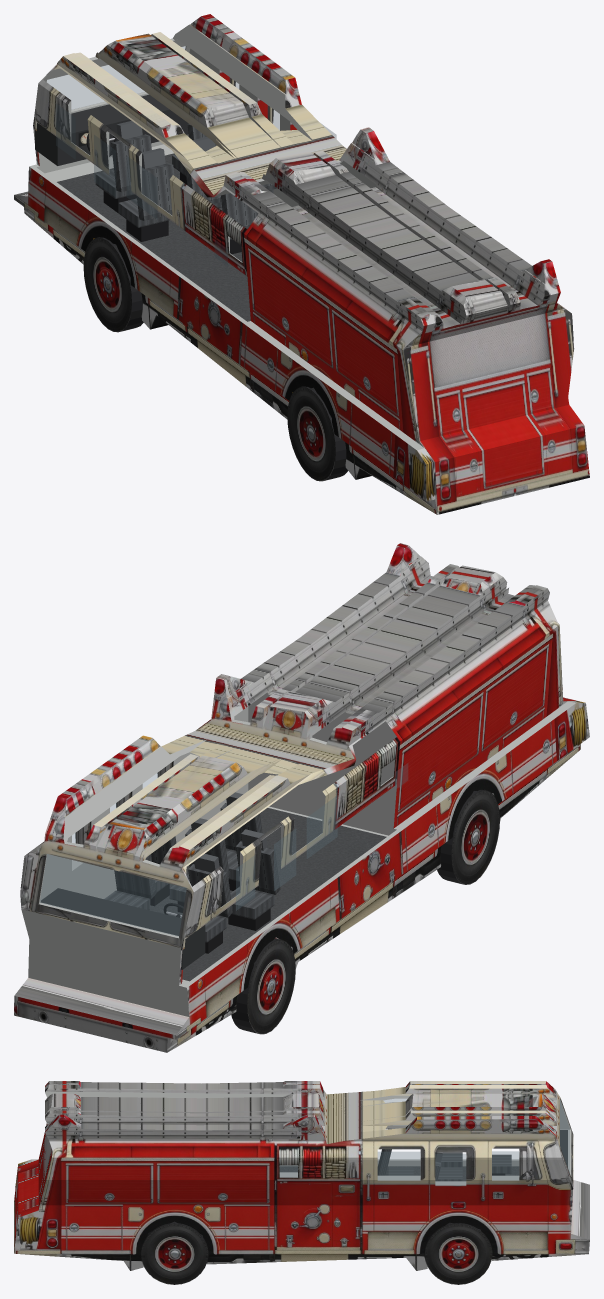
The model's file is fire_engine.glb.
3 views of the same model, one above another, from view 1: azimuth 30°, elevation 25°; view 2: azimuth 150°, elevation 25°; view 3: azimuth 270°, elevation 25° (orthographic). The views are drawn at different scales.
Visible parts, largest first — view 1: fire_engine, fire_engine_cabin, wheel_BL, wheel_FL; view 2: fire_engine, fire_engine_cabin, wheel_FL, wheel_BL; view 3: fire_engine, fire_engine_cabin, wheel_FR, wheel_BR.
Part boxes in pixels (x1,y1,x2,y2): fire_engine: (14,14,589,514); fire_engine_cabin: (35,46,336,321); wheel_BL: (287,386,347,481); wheel_FL: (83,237,143,332); fire_engine: (14,543,589,1052); fire_engine_cabin: (40,763,407,981); wheel_FL: (231,938,295,1034); wheel_BL: (437,790,499,884); fire_engine: (14,1081,589,1270); fire_engine_cabin: (279,1099,569,1185); wheel_FR: (425,1222,491,1284); wheel_BR: (141,1221,207,1284).
Size of the model in its own units: 2.52 by 3.18 by 9.99.
Materials: 12 (4 with a texture image).
